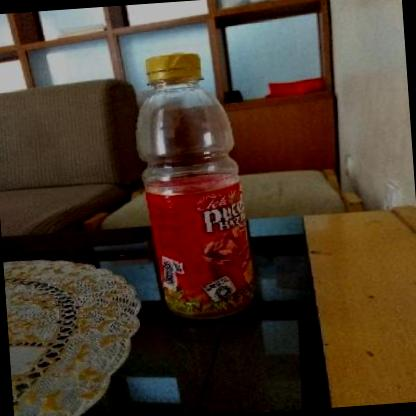plastic_bottles: (129, 45, 262, 329)
